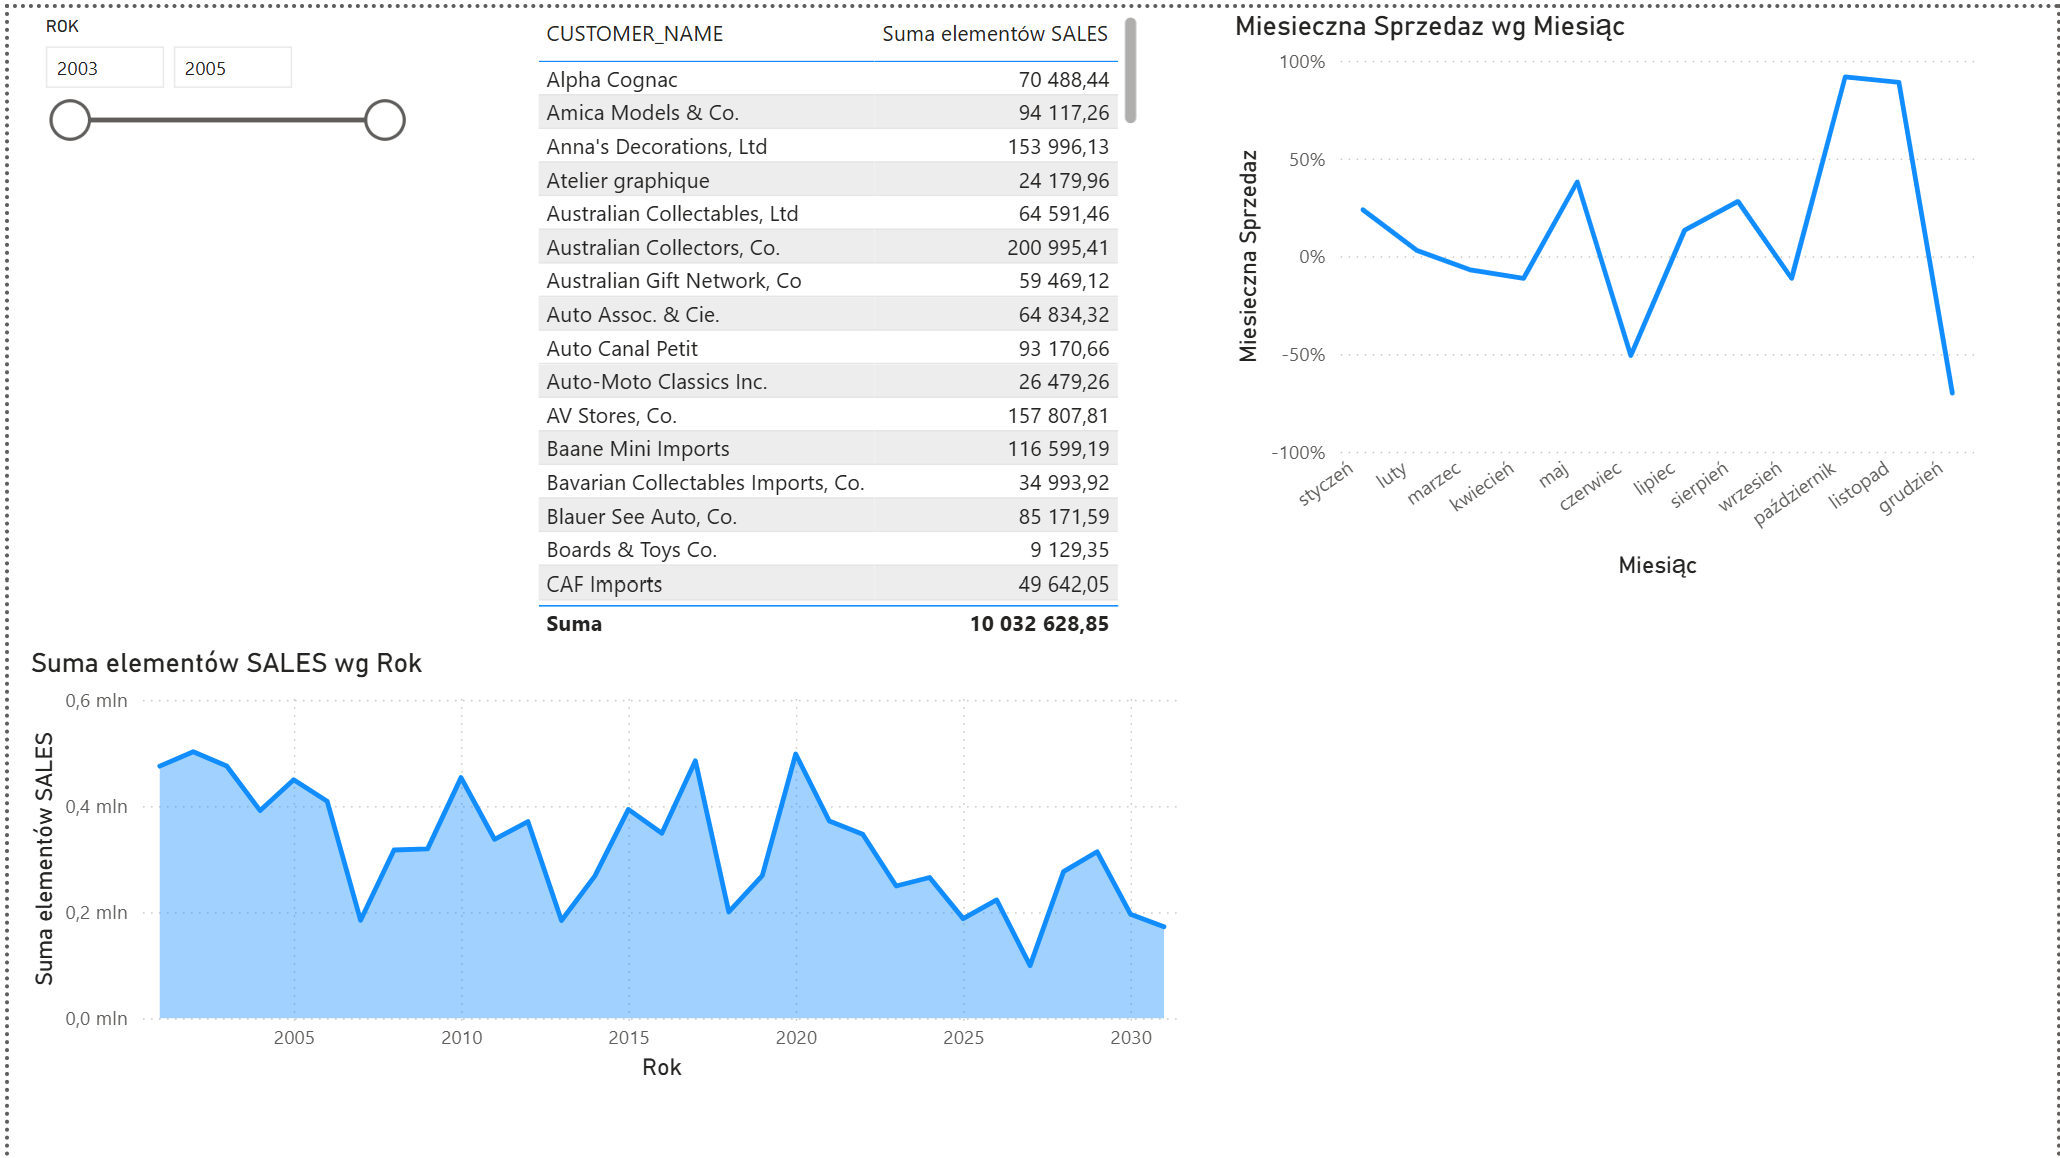

What the dashboard file says about the page in this screenshot:
{"tool":"powerbi","page":{"name":"Ogólne","canvas":[1280,720],"ordinal":0},"visuals":[{"type":"slicer","fields":{"Values":["czas.ROK"]},"box":[9.4,0,246.2,109],"z":0},{"type":"tableEx","fields":{"Values":["klient.CUSTOMER_NAME","Sum(sprzedaz.SALES)"]},"box":[325.2,0,385.3,398.5],"z":1000},{"type":"lineChart","fields":{"Y":["sprzedaz.Miesieczna"],"Category":["czas.DATA_SPRZEDAZY.Odmiana.Hierarchia dat.Rok","czas.DATA_SPRZEDAZY.Odmiana.Hierarchia dat.Kwartał","czas.DATA_SPRZEDAZY.Odmiana.Hierarchia dat.Miesiąc","czas.DATA_SPRZEDAZY.Odmiana.Hierarchia dat.Dzień"]},"box":[761.2,0,471.8,360.9],"z":2000},{"type":"areaChart","fields":{"Category":["czas.DATA_SPRZEDAZY.Odmiana.Hierarchia dat.Rok","czas.DATA_SPRZEDAZY.Odmiana.Hierarchia dat.Kwartał","czas.DATA_SPRZEDAZY.Odmiana.Hierarchia dat.Miesiąc","czas.DATA_SPRZEDAZY.Odmiana.Hierarchia dat.Dzień"],"Y":["Sum(sprzedaz.SALES)"]},"box":[8.9,398.9,731.1,275.6],"z":3000}]}

Visuals, with their boxes in screenshot pixels (x1, y1, x2, y2), scaled from the page's 1280x720 canvas onto the 2060x1158 screenshot:
slicer - czas.ROK: x1=15 y1=0 x2=411 y2=175
tableEx - klient.CUSTOMER_NAME x Sum(sprzedaz.SALES): x1=523 y1=0 x2=1143 y2=641
lineChart - sprzedaz.Miesieczna x czas.DATA_SPRZEDAZY.Odmiana.Hierarchia dat.Rok: x1=1225 y1=0 x2=1984 y2=580
areaChart - czas.DATA_SPRZEDAZY.Odmiana.Hierarchia dat.Rok x czas.DATA_SPRZEDAZY.Odmiana.Hierarchia dat.Kwartał: x1=14 y1=642 x2=1191 y2=1085
